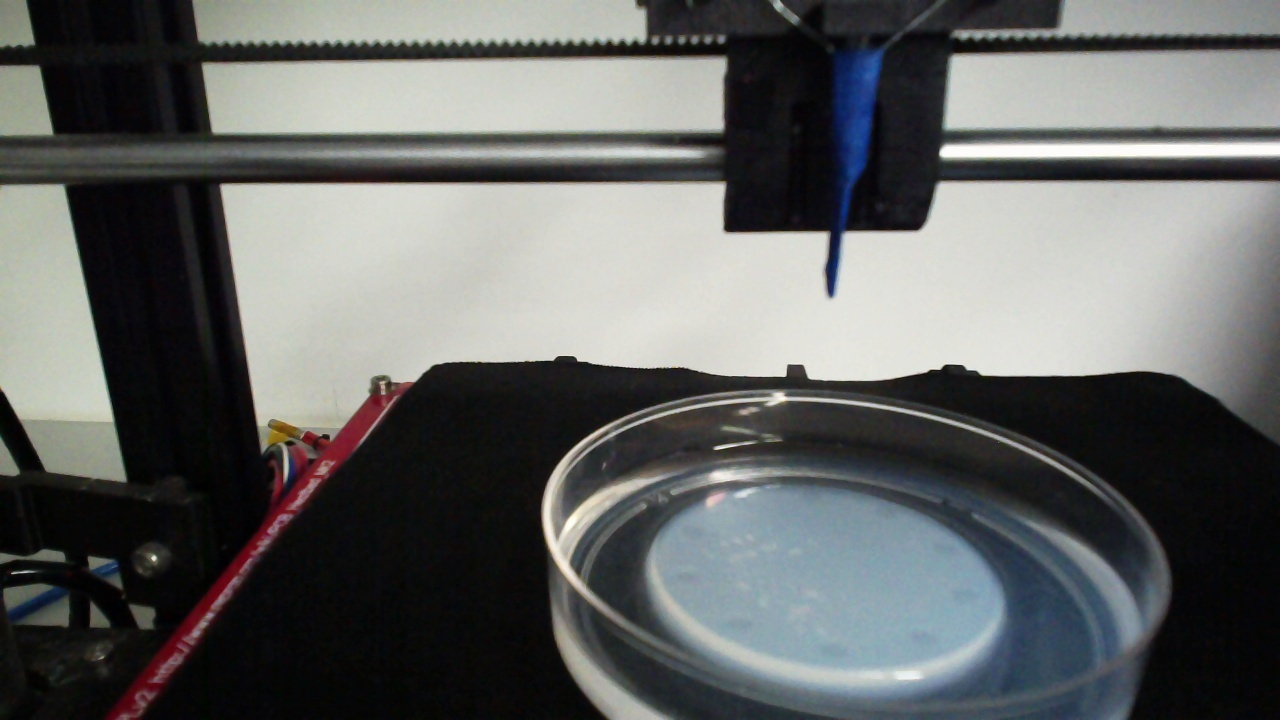groove: (952, 583, 982, 603), (932, 539, 963, 558), (819, 641, 848, 659), (911, 629, 939, 646), (679, 523, 706, 540), (873, 504, 899, 521), (723, 618, 752, 632), (797, 488, 824, 502), (672, 571, 698, 583)
needle: (826, 51, 881, 297)
